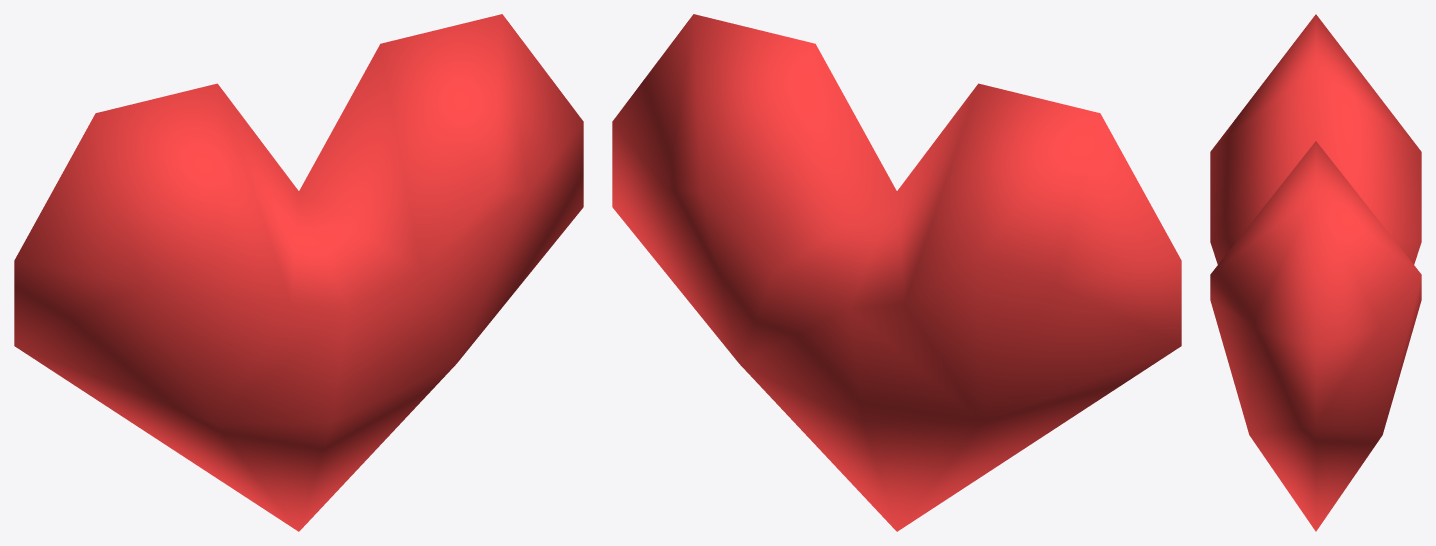
Rendered from bigHert.glb.
3 renders of one model, left to right at view 1: azimuth 30°, elevation 25°; view 2: azimuth 150°, elevation 25°; view 3: azimuth 270°, elevation 25°, orthographic. The views are drawn at different scales.
Parts seen in each view (by area): view 1: bigHert.001; view 2: bigHert.001; view 3: bigHert.001.
Boxes of the visible parts, x1,y1,x2,y2 form: bigHert.001: (14,14,583,531); bigHert.001: (612,14,1181,531); bigHert.001: (1210,14,1421,531).
Bounding box in the file's own units: 700 × 550 × 246.
